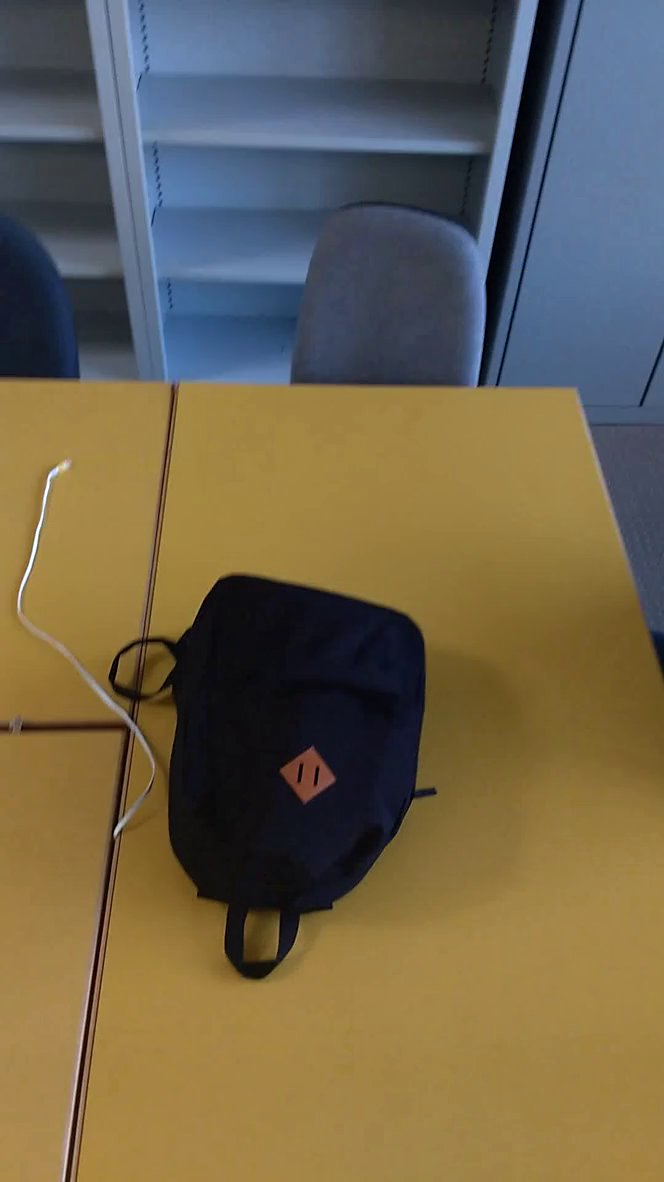bag: (108, 557, 452, 1003)
chair: (276, 197, 504, 413)
